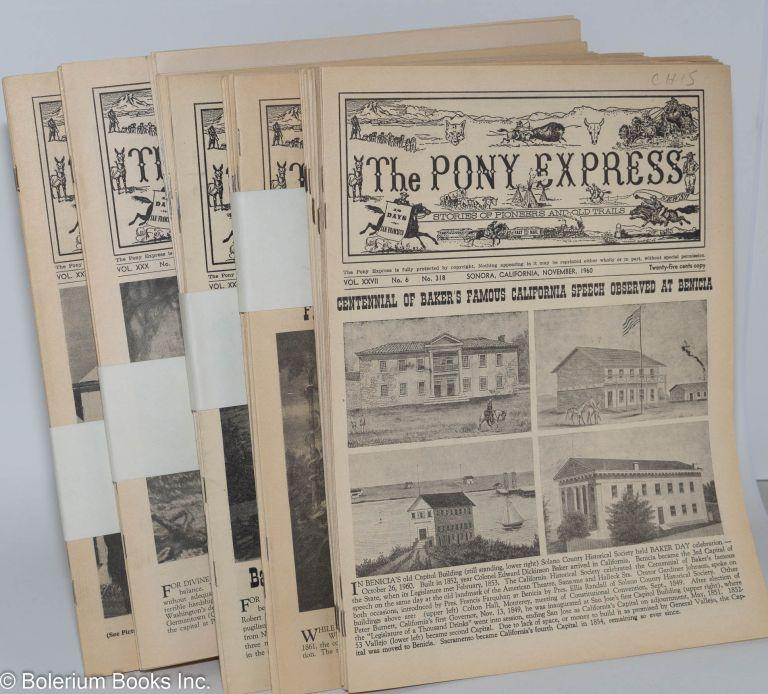paper: (3, 17, 768, 693)
